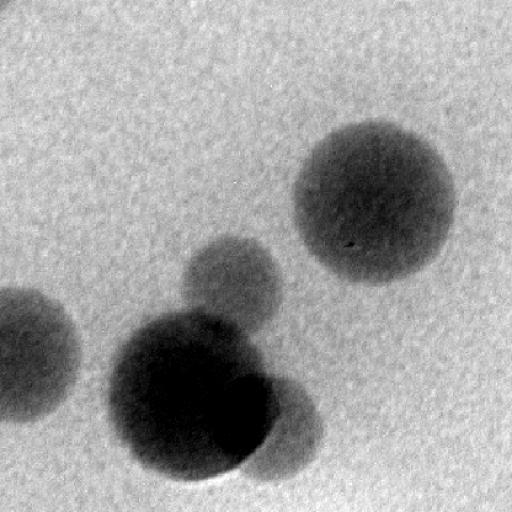Nanoparticles: (111, 309, 285, 484), (291, 119, 459, 290), (175, 233, 286, 343), (0, 282, 85, 423), (232, 376, 328, 482)
